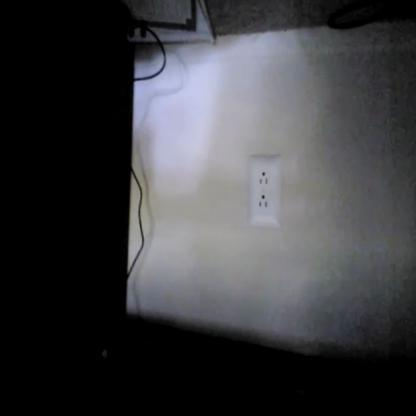OUTLET: (246, 157, 280, 226)
